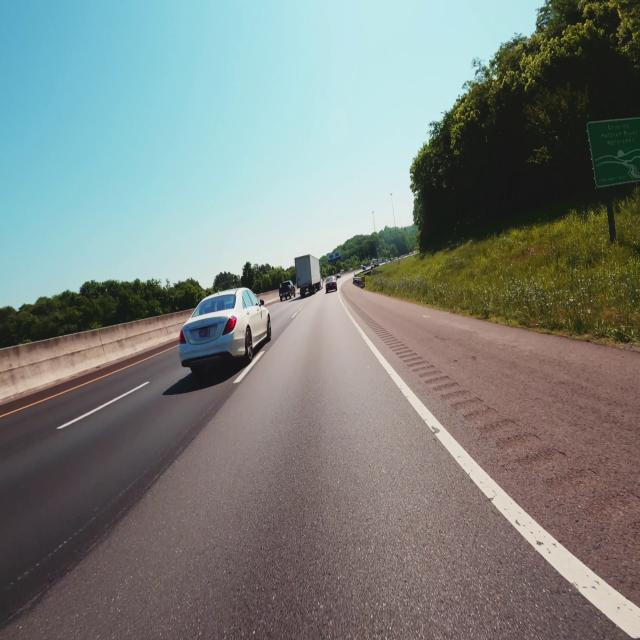car: (179, 288, 271, 374), (279, 281, 295, 301), (326, 276, 337, 292)
